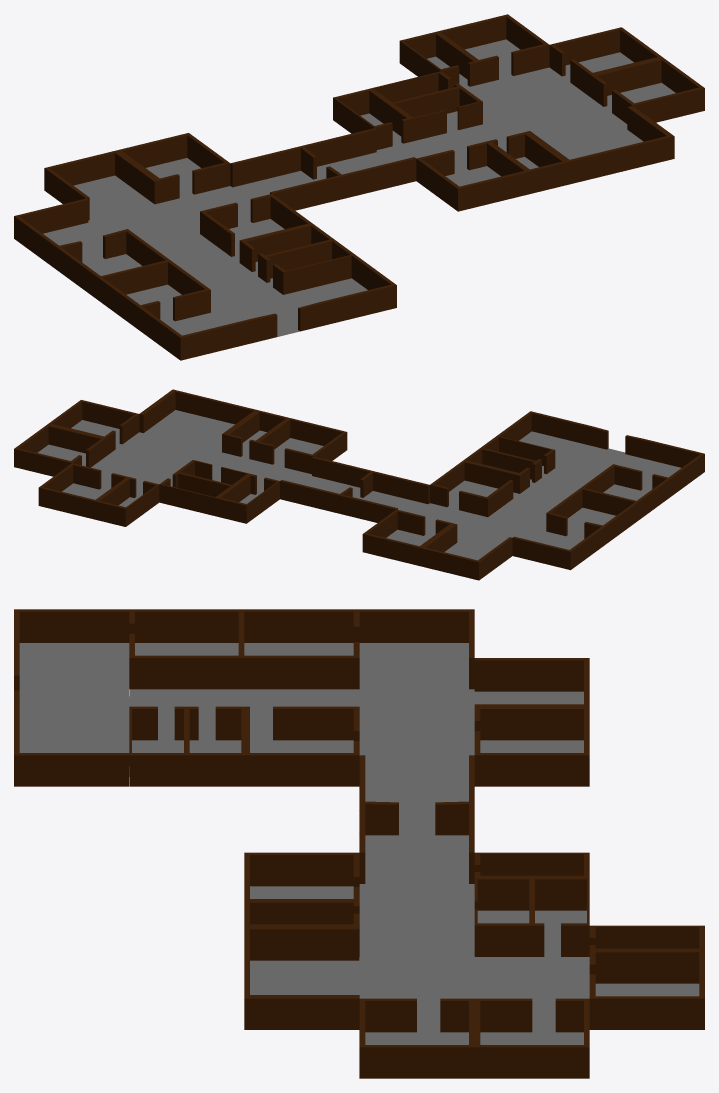
The model's file is Area1.fbx.
3 renders of one model, top to bottom at view 1: azimuth 30°, elevation 25°; view 2: azimuth 150°, elevation 25°; view 3: azimuth 270°, elevation 25°, orthographic. The views are drawn at different scales.
Parts seen in each view (by area): view 1: Plane.033; view 2: Plane.033; view 3: Plane.033.
Boxes of the visible parts, box(x1,y1,x2,y2) form: Plane.033: box(14, 14, 704, 360); Plane.033: box(14, 389, 704, 580); Plane.033: box(14, 609, 704, 1078).
Bounding box in the file's own units: 9000 × 300 × 6000.
